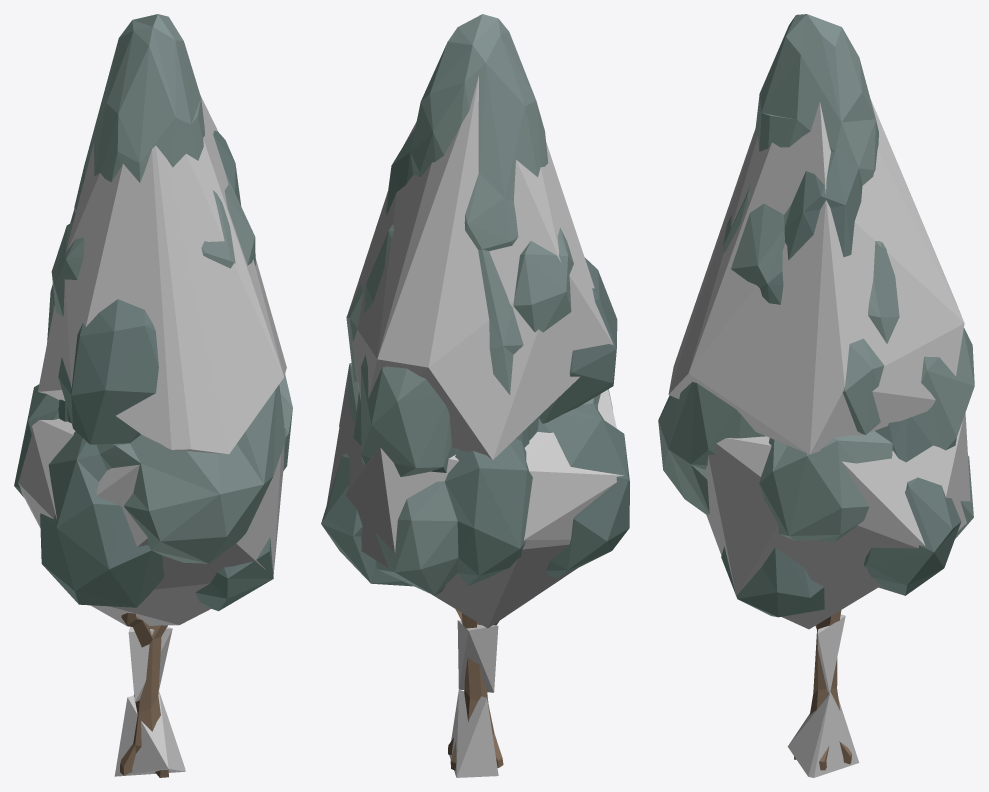
File: SM_Env_Tree_02.fbx
The picture shows the model from 3 angles, left to right: view 1: azimuth 30°, elevation 25°; view 2: azimuth 150°, elevation 25°; view 3: azimuth 270°, elevation 25°; orthographic projection. The views are drawn at different scales.
Parts seen in each view (by area): view 1: SM_Env_Tree_02, SM_Env_Tree_02_ConvexHulls; view 2: SM_Env_Tree_02, SM_Env_Tree_02_ConvexHulls; view 3: SM_Env_Tree_02_ConvexHulls, SM_Env_Tree_02.
Boxes of the visible parts, box(x1,y1,x2,y2) form: SM_Env_Tree_02: box(14, 14, 292, 777); SM_Env_Tree_02_ConvexHulls: box(18, 95, 286, 776); SM_Env_Tree_02: box(321, 14, 629, 770); SM_Env_Tree_02_ConvexHulls: box(326, 76, 623, 777); SM_Env_Tree_02_ConvexHulls: box(668, 99, 970, 777); SM_Env_Tree_02: box(658, 14, 974, 770).
Size of the model in its own units: 557 by 609 by 1590.
Materials: 2 (1 with a texture image).
